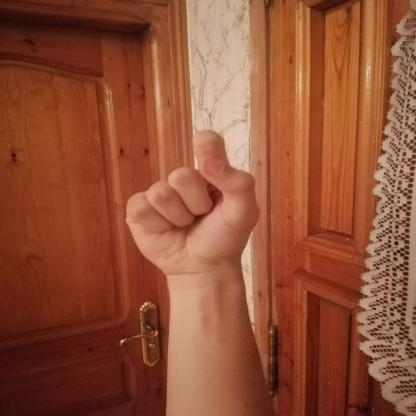FAA: (109, 122, 274, 286)
